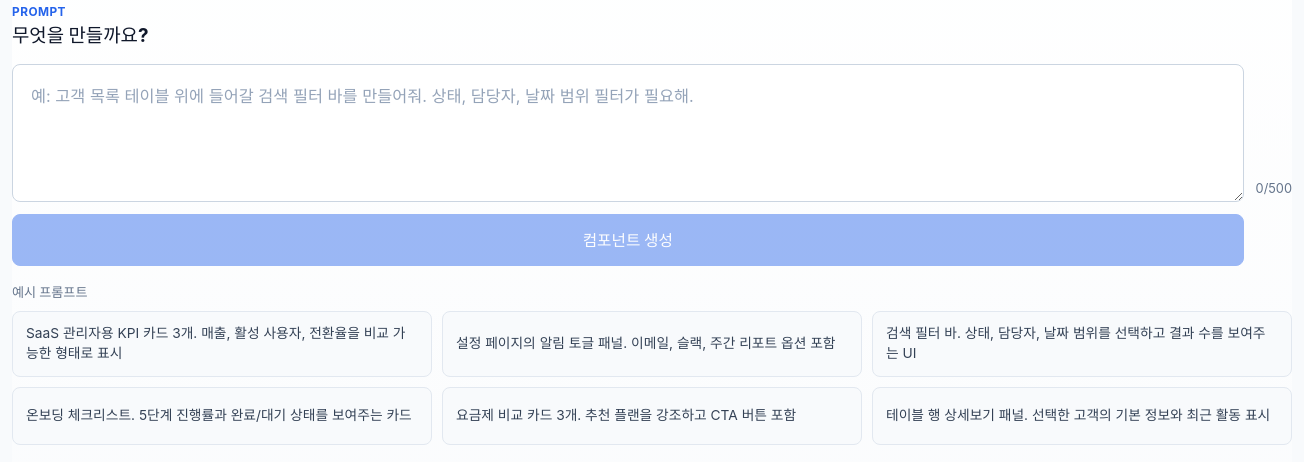
it: PromptInput › 입력한 글자 수를 "현재/500" 형태로 보여준다
expect the text "0/500" is shown: met, box [1256,181,1292,196]
Type "프로필 카드" into the text box at x=628, y=133, box [12,64,1244,202]
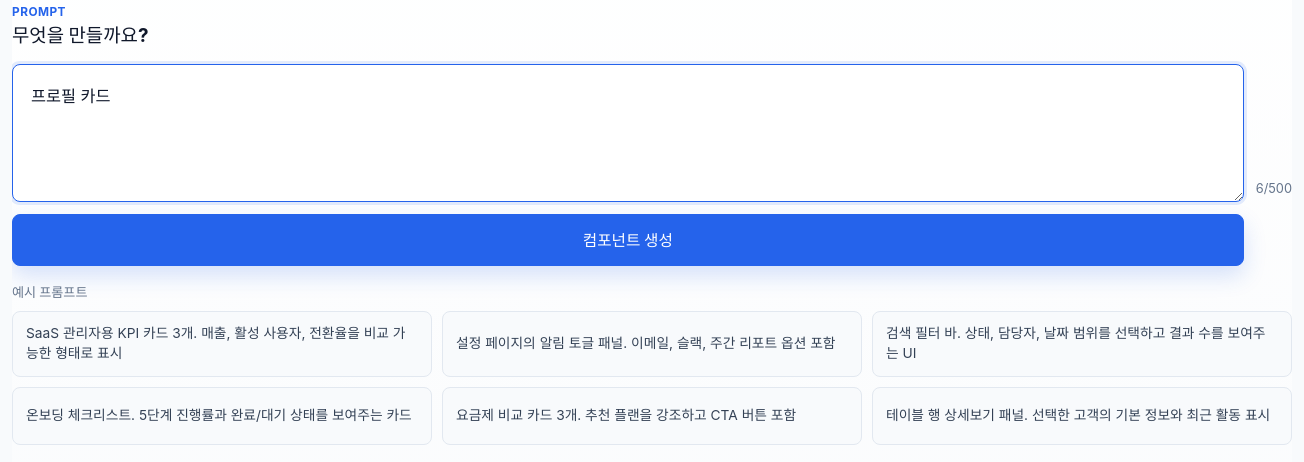
expect the text "6/500" is shown: met, box [1256,181,1292,196]
